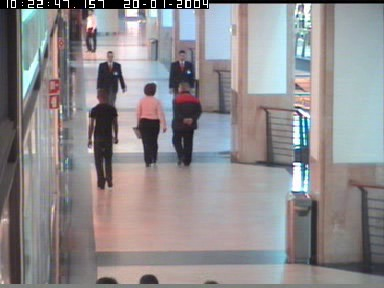person: (132, 82, 167, 167), (88, 90, 118, 189), (172, 81, 204, 164), (168, 51, 193, 125), (96, 51, 125, 107), (84, 9, 96, 53)
